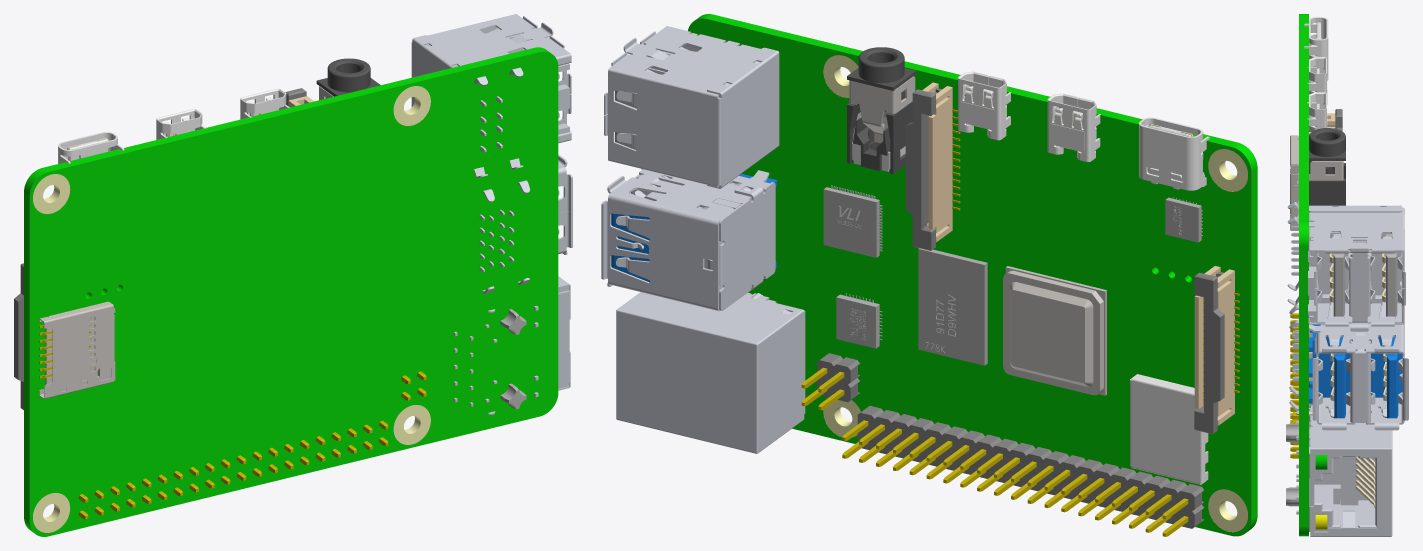
File: board.glb
3 renders of one model, left to right at view 1: azimuth 30°, elevation 25°; view 2: azimuth 150°, elevation 25°; view 3: azimuth 270°, elevation 25°, orthographic. The views are drawn at different scales.
Parts seen in each view (by area): view 1: Node9, Node1, Node11, Node10, Node2, Node8, Node6, Node13, Node17, Node16; view 2: Node9, Node2, Node1, Node17, Node6, Node16, Node11, Node8, Node7, Node13, Node10, Node18 (+1 smaller); view 3: Node2, Node1, Node9, Node18, Node13, Node6, Node16, Node5, Node11, Node8, Node14, Node15 (+1 smaller).
Boxes of the visible parts, x1=… form: Node9: x1=24, y1=47, x2=558, y2=536; Node1: x1=411, y1=14, x2=571, y2=176; Node11: x1=39, y1=86, x2=333, y2=398; Node10: x1=33, y1=86, x2=430, y2=532; Node2: x1=453, y1=154, x2=572, y2=414; Node8: x1=39, y1=317, x2=426, y2=519; Node6: x1=58, y1=88, x2=289, y2=163; Node13: x1=316, y1=58, x2=380, y2=98; Node17: x1=14, y1=88, x2=306, y2=409; Node16: x1=500, y1=309, x2=526, y2=409; Node9: x1=688, y1=14, x2=1257, y2=536; Node2: x1=601, y1=169, x2=805, y2=453; Node1: x1=604, y1=26, x2=882, y2=257; Node17: x1=817, y1=88, x2=1224, y2=528; Node6: x1=958, y1=71, x2=1209, y2=484; Node16: x1=615, y1=91, x2=1201, y2=365; Node11: x1=849, y1=76, x2=1106, y2=395; Node8: x1=801, y1=367, x2=1188, y2=536; Node7: x1=922, y1=82, x2=1234, y2=425; Node13: x1=847, y1=47, x2=916, y2=174; Node10: x1=823, y1=55, x2=1247, y2=532; Node18: x1=611, y1=174, x2=777, y2=282; Node2: x1=1289, y1=305, x2=1408, y2=536; Node1: x1=1287, y1=202, x2=1405, y2=331; Node9: x1=1299, y1=14, x2=1327, y2=536; Node18: x1=1309, y1=324, x2=1402, y2=418; Node13: x1=1309, y1=128, x2=1345, y2=205; Node6: x1=1304, y1=17, x2=1328, y2=131; Node16: x1=1286, y1=234, x2=1397, y2=506; Node5: x1=1316, y1=22, x2=1386, y2=508; Node11: x1=1290, y1=135, x2=1343, y2=230; Node8: x1=1290, y1=313, x2=1298, y2=458; Node14: x1=1287, y1=202, x2=1402, y2=352; Node15: x1=1315, y1=515, x2=1327, y2=529.
Bounding box in the file's own units: 88.99 × 58.4 × 19.9.
